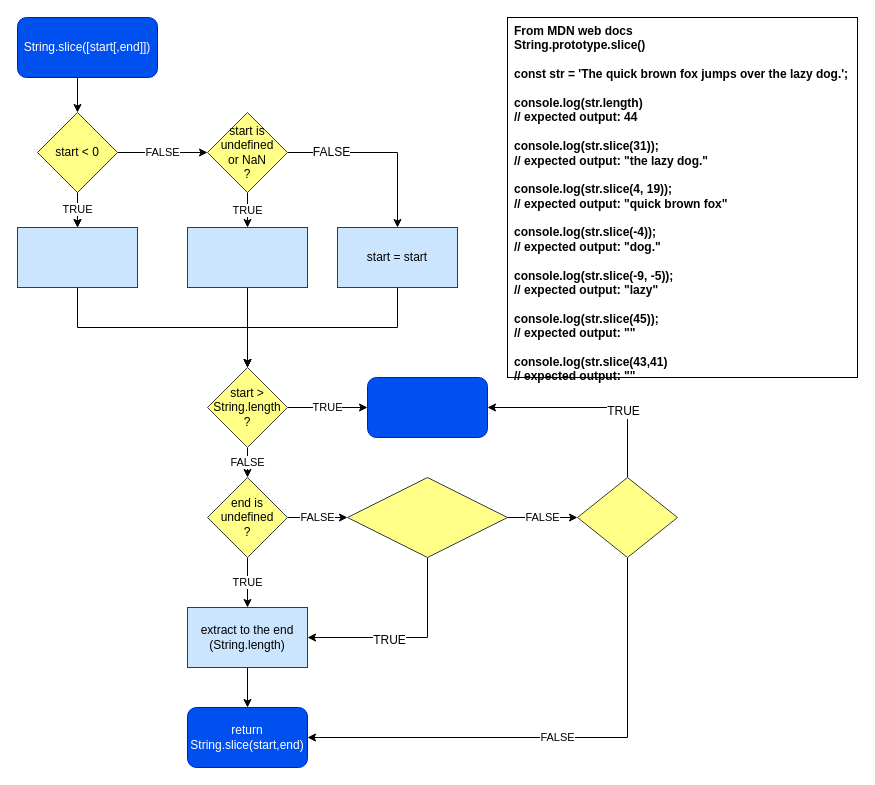
Some shapes in this 875 by 785 pixel diagram are drawn without their labels. The shapes that lost their labels are listed below. From the top down, each one's box as (x1, y1, x2, y2) in pixels, then its label:
(16, 226, 138, 288): Remove from the end of the array, using start as the offset
(186, 226, 308, 288): start = 0
(366, 376, 488, 438): return empty string
(346, 476, 508, 558): end is larger than String.length?
(576, 476, 678, 558): end is less than start ?
